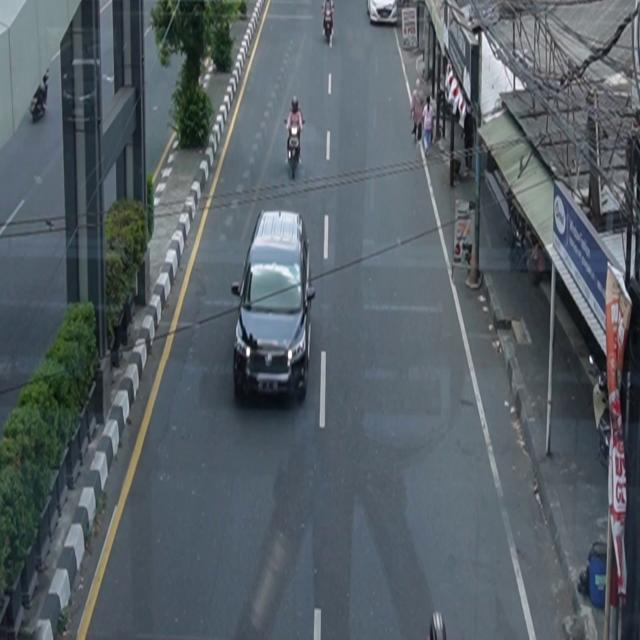car: (231, 209, 317, 404), (367, 1, 398, 26)
